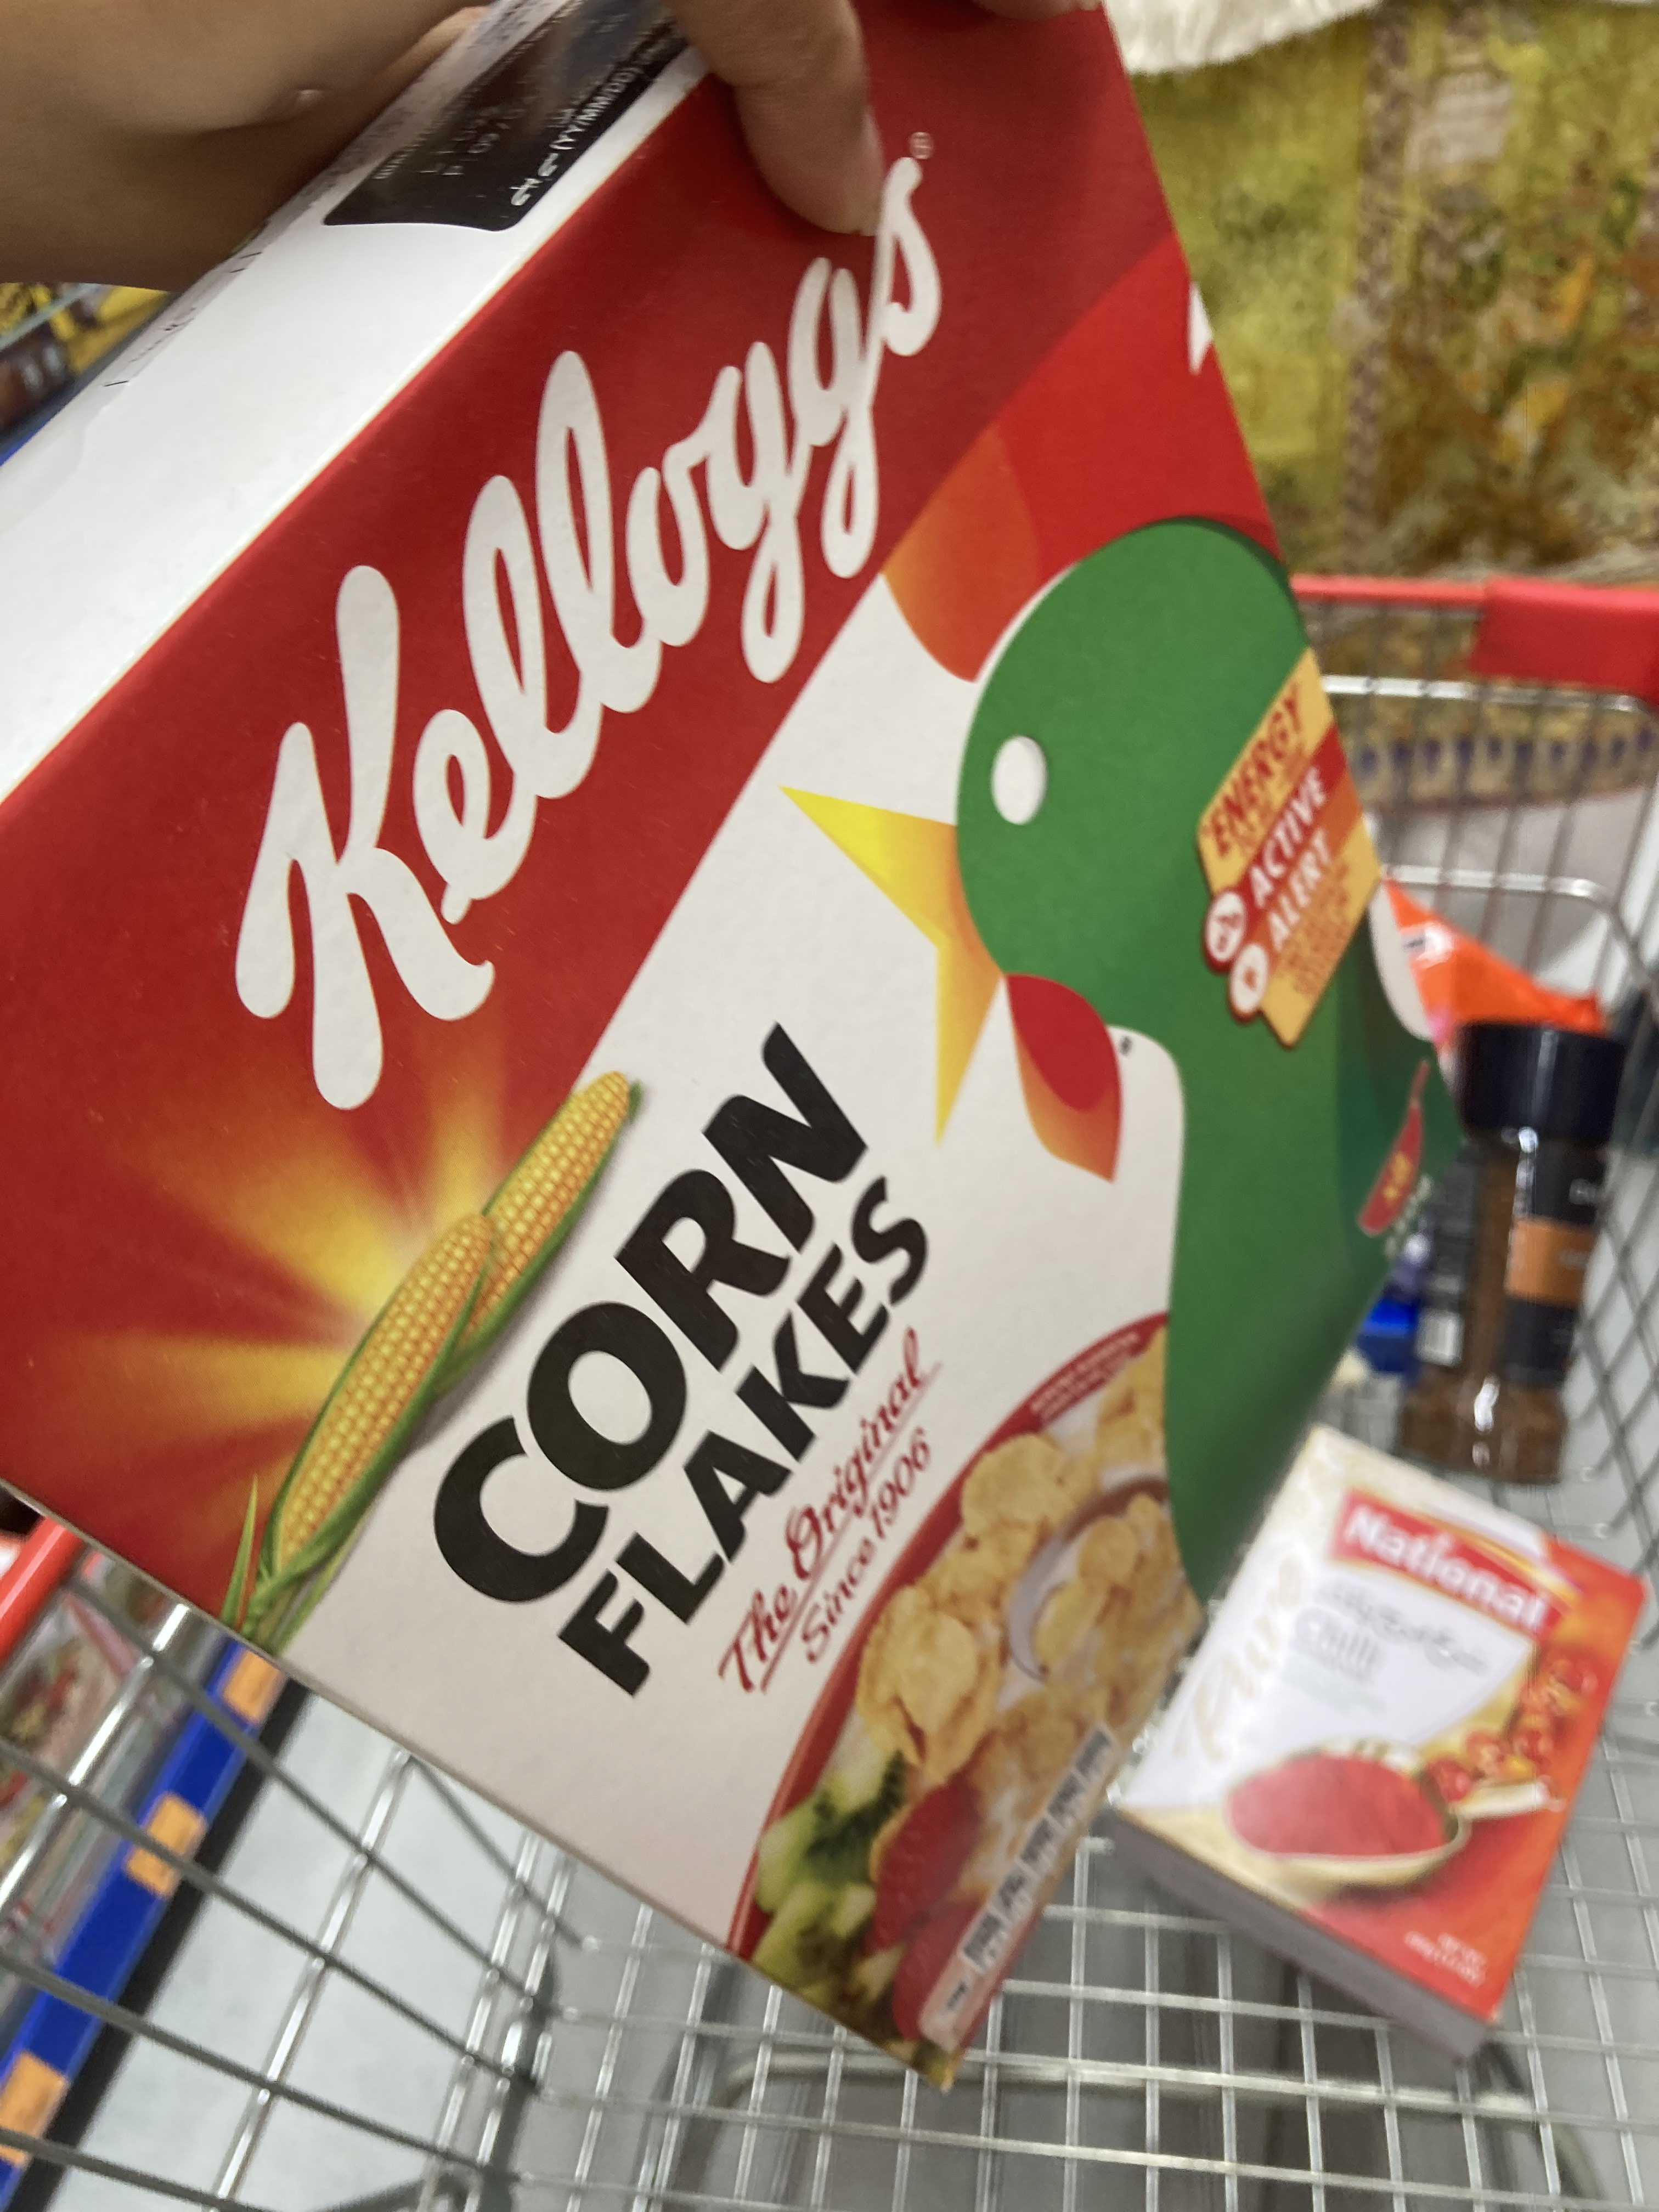Kellogg's Corn Flakes: (2, 9, 1466, 2094)
